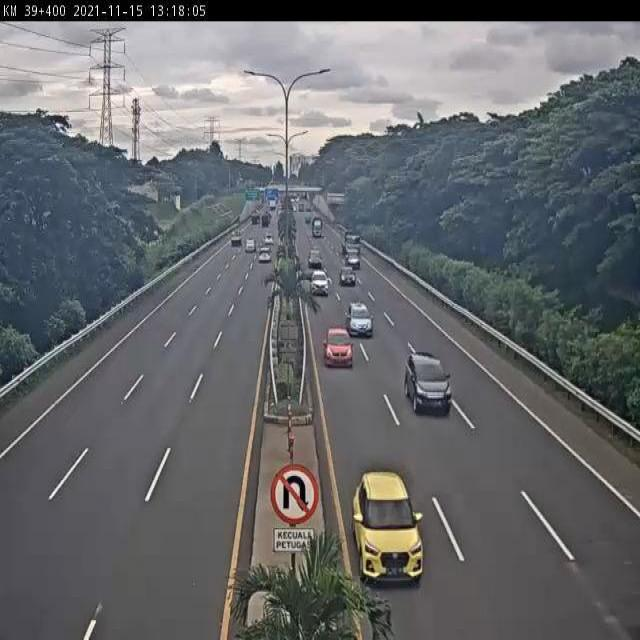car: (352, 474, 425, 586), (405, 351, 454, 416), (322, 328, 353, 368), (346, 298, 373, 338), (308, 268, 330, 296)
